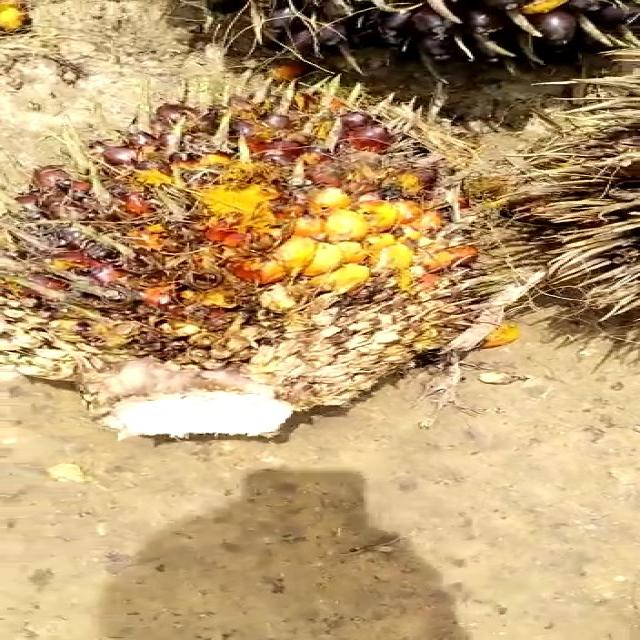palm oil: (0, 68, 517, 444)
